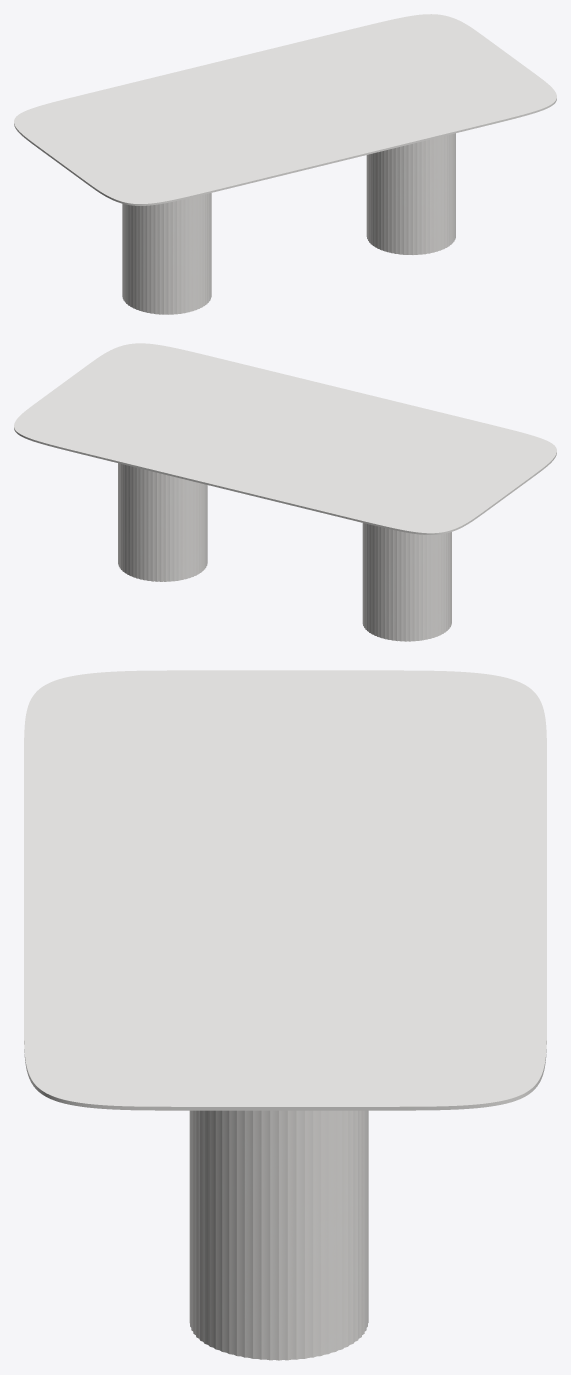
File: purewhite_softrecta_facet_ripplesecond.glb
The picture shows the model from 3 angles, top to bottom: view 1: azimuth 30°, elevation 25°; view 2: azimuth 150°, elevation 25°; view 3: azimuth 270°, elevation 25°; orthographic projection. The views are drawn at different scales.
Parts seen in each view (by area): view 1: facet_softrecta, ripplesecond; view 2: facet_softrecta, ripplesecond; view 3: facet_softrecta, ripplesecond.
Part boxes in pixels (left/top/right/bottom): facet_softrecta: left=14, top=14, right=556, bottom=205; ripplesecond: left=122, top=133, right=455, bottom=314; facet_softrecta: left=14, top=343, right=556, bottom=534; ripplesecond: left=118, top=463, right=451, bottom=641; facet_softrecta: left=24, top=670, right=546, bottom=1110; ripplesecond: left=189, top=1110, right=368, bottom=1360.
Size of the model in its own units: 7.5 by 2.5 by 3.8.
Materials: 1 (1 with a texture image).
